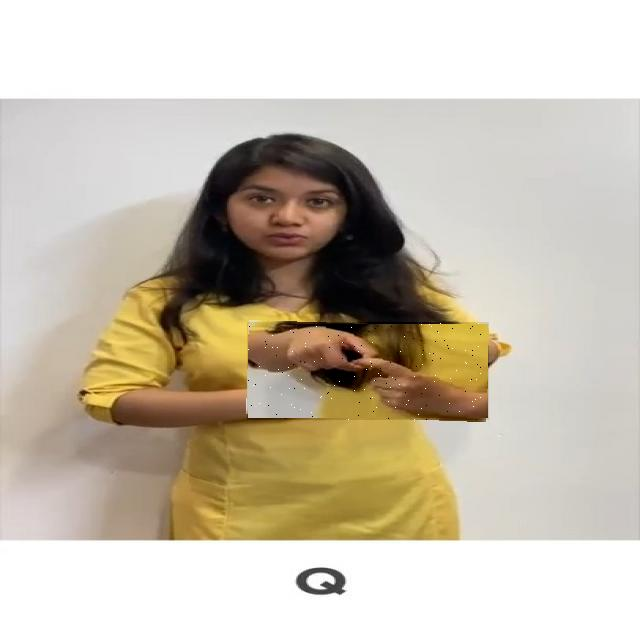Q: (247, 322, 489, 420)
